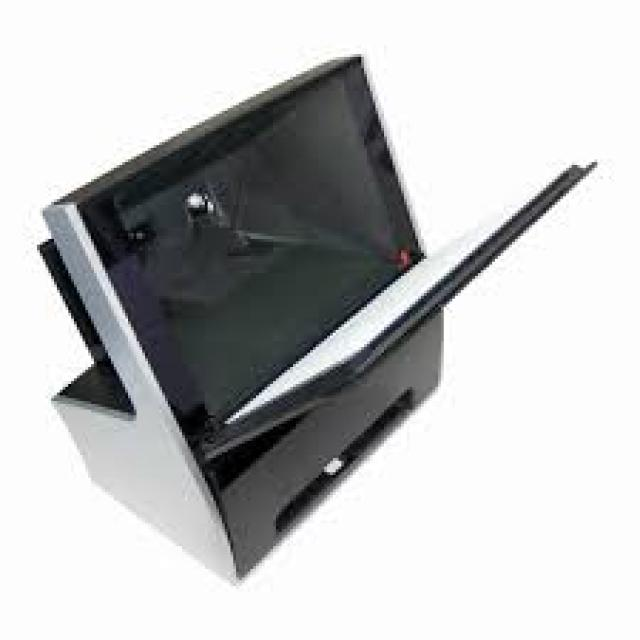printer: (34, 51, 597, 586)
